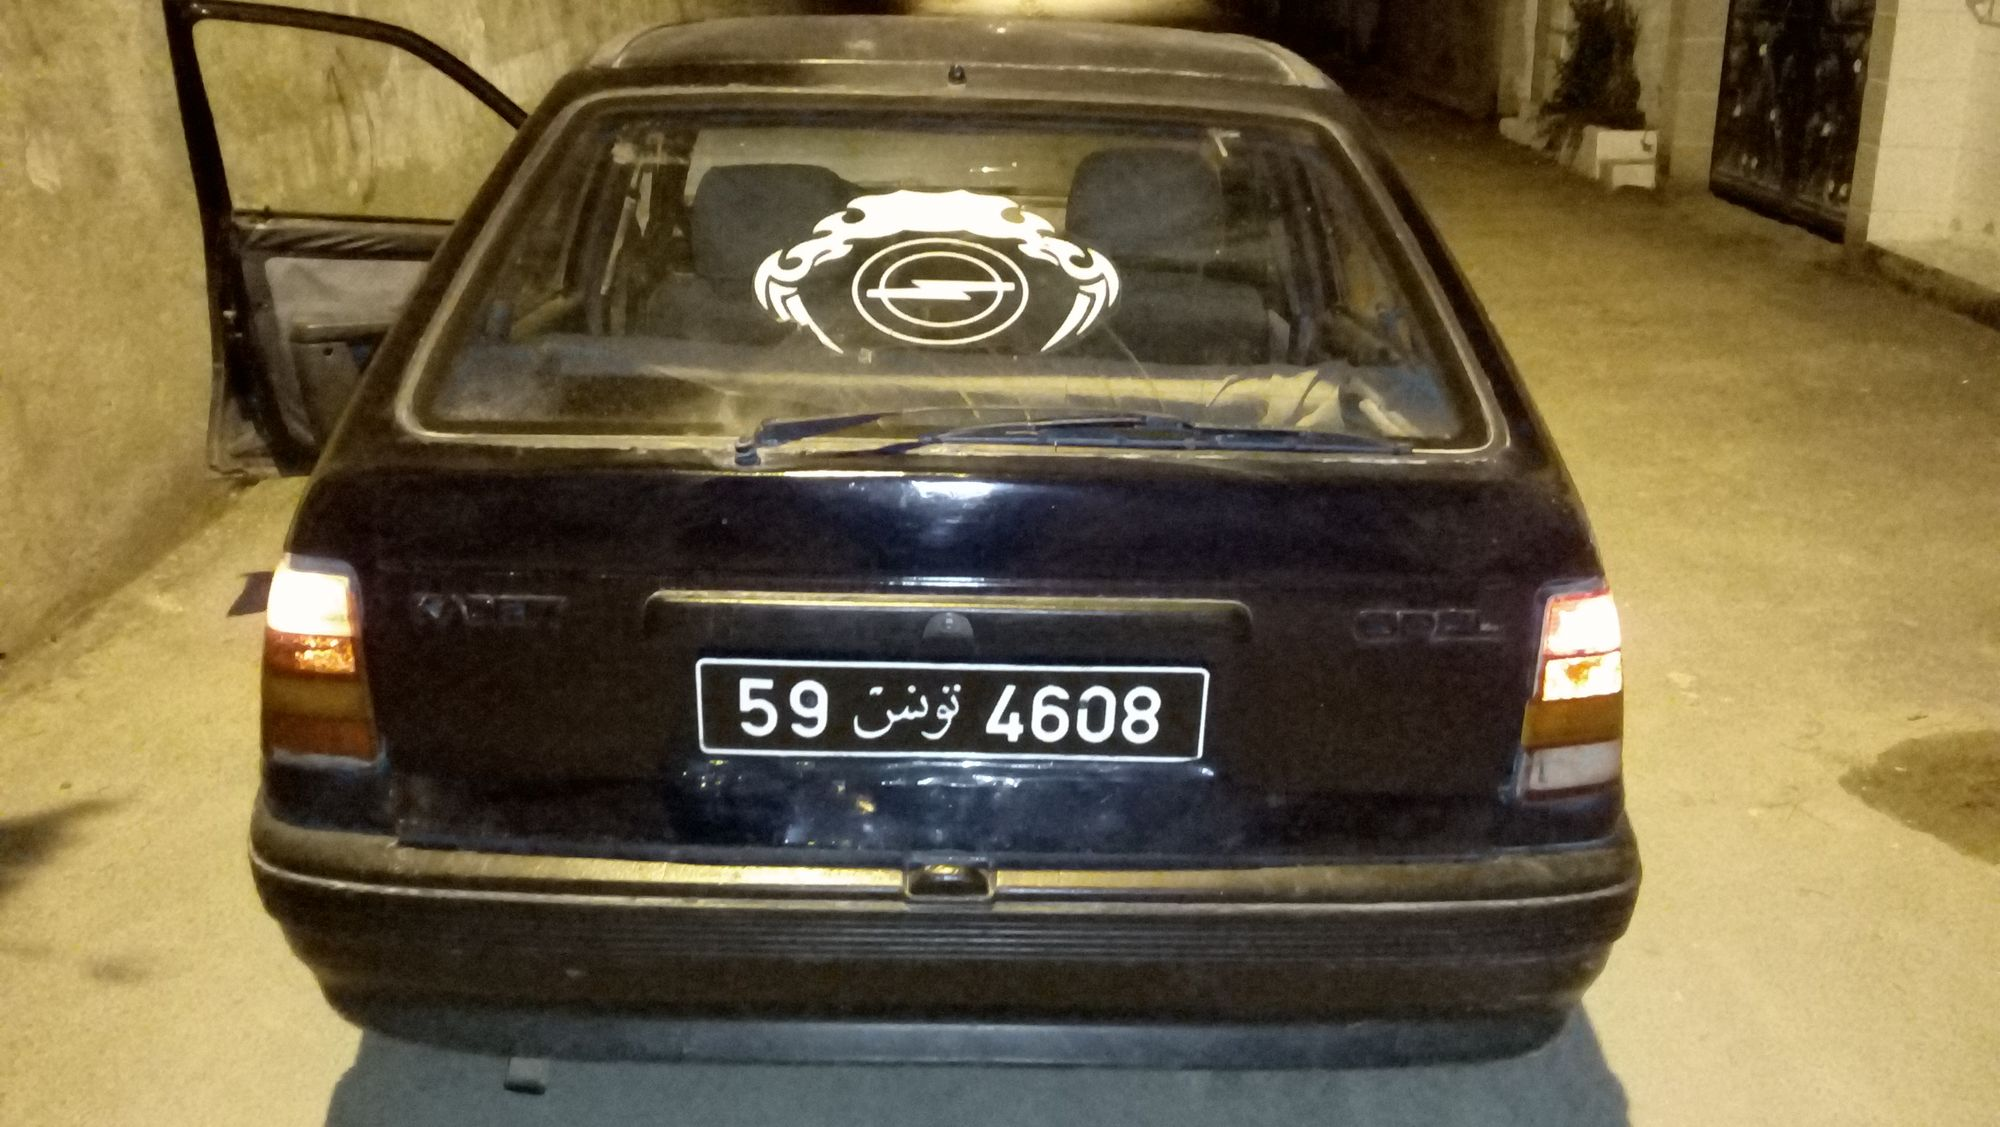LP: (691, 651, 1222, 770)
